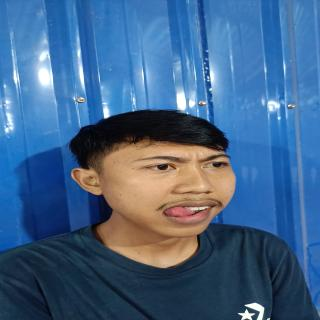Marah: (91, 128, 242, 242)
